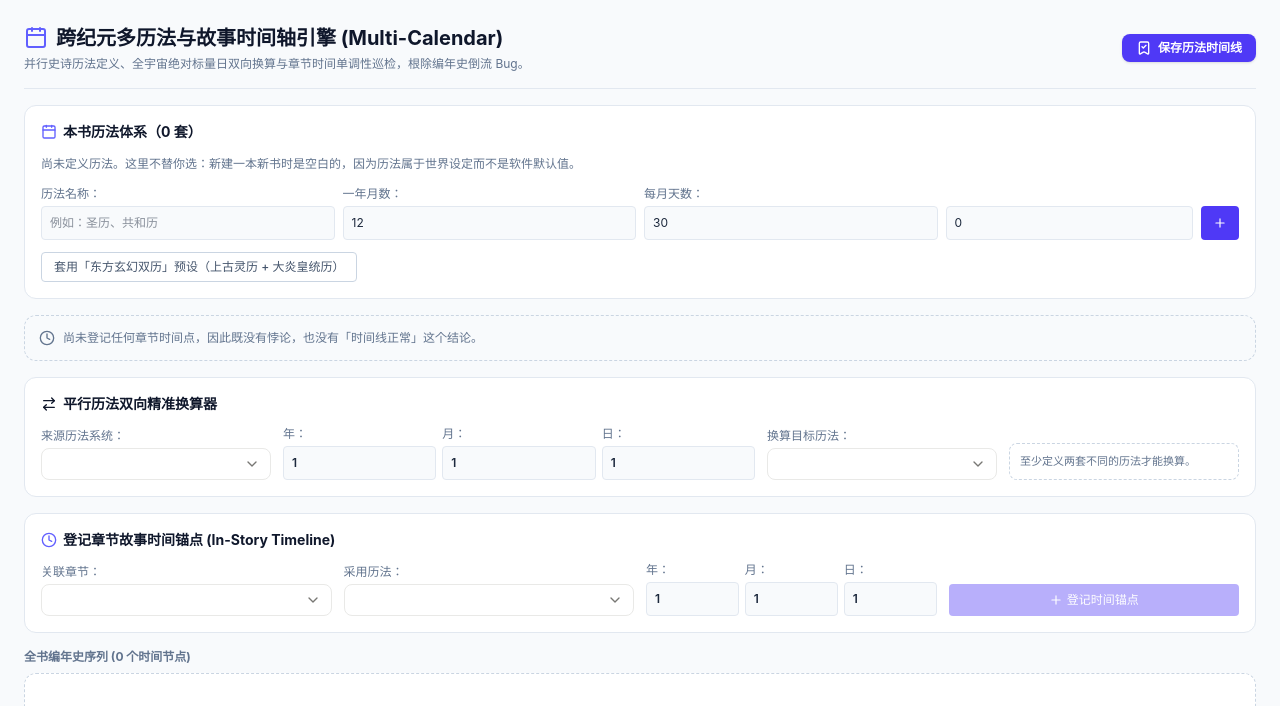
Test: MultiCalendar Components › converts nothing until the author defines two calendars, then converts between his own
Expected: the text "本书历法体系（0 套）" is shown, [41,123,202,140]
Expected: the text "至少定义两套不同的历法才能换算。" is shown, [1009,443,1239,480]
Type "圣历" into the field with placeholder "例如：圣历、共和历" at (188, 222), box [41,206,334,240]
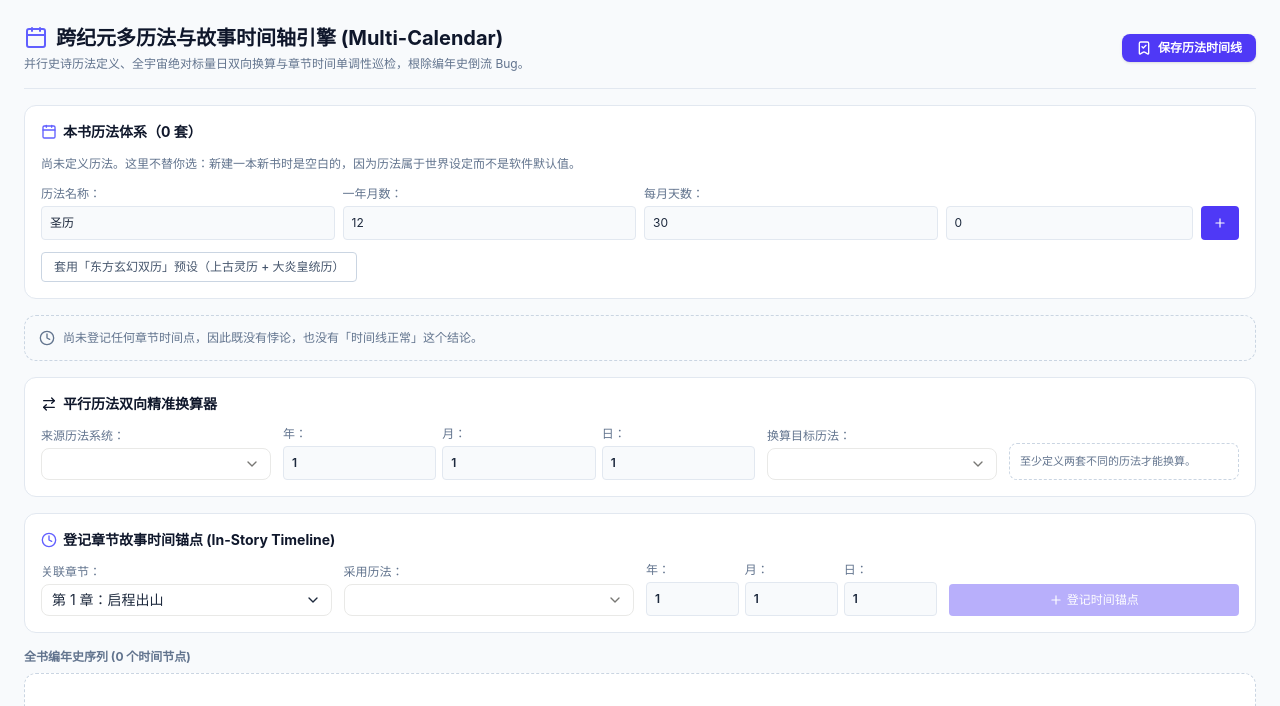
Click the button named "添加自定义历法" at (1220, 222), box [1201,206,1239,240]
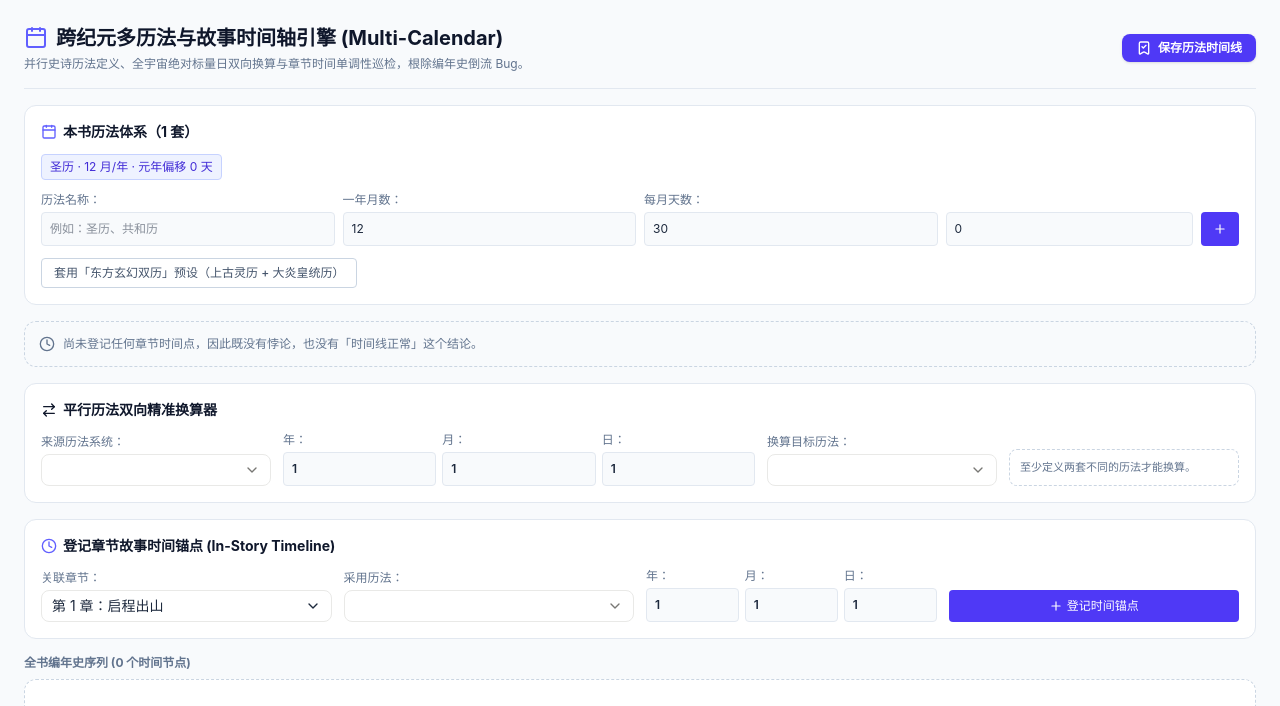
Expected: the text "至少定义两套不同的历法才能换算。" is shown, [1009,449,1239,486]
Result: the text "本书历法体系（1 套）" is shown at [41,123,198,140]
Result: the text "圣历 · 12 月/年 · 元年偏移 0 天" is shown at [41,154,222,180]
